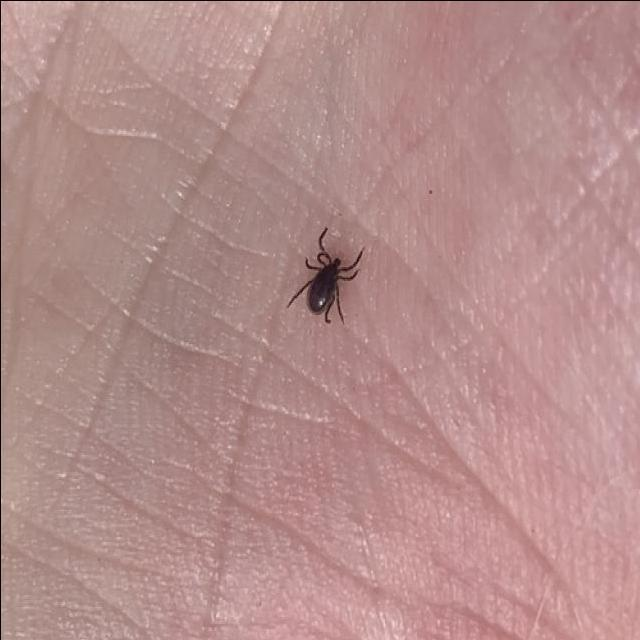Ixodes Ricinus-M: (284, 225, 364, 323)
